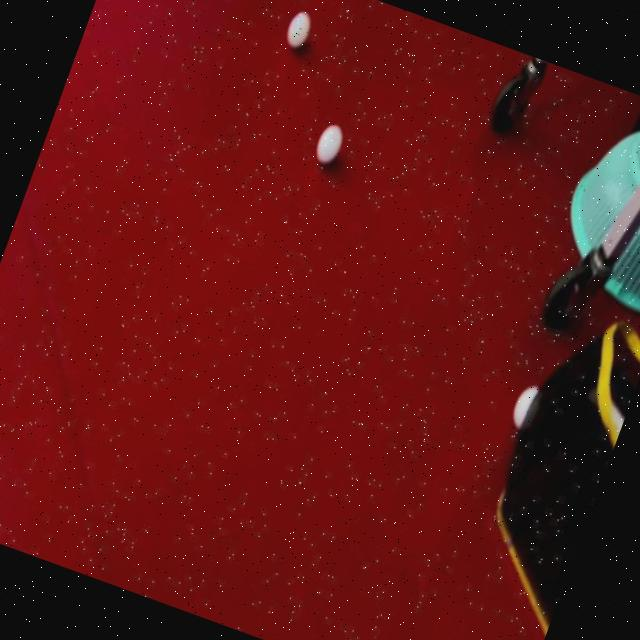ping-pong-ball: (310, 118, 352, 172), (280, 6, 316, 52)
